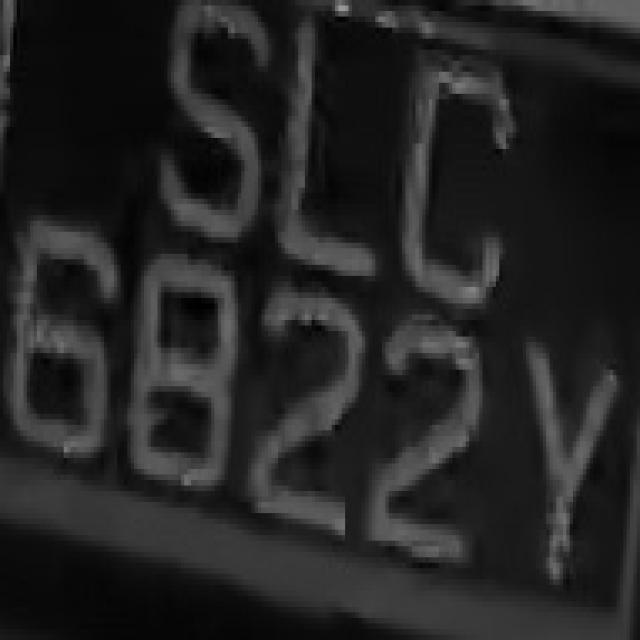2: (368, 309, 486, 596), (252, 270, 366, 552)
6: (10, 188, 114, 497)
8: (118, 232, 242, 513)
C: (392, 39, 519, 320)
L: (275, 28, 372, 304)
S: (140, 0, 261, 259)
Y: (516, 314, 610, 618)
